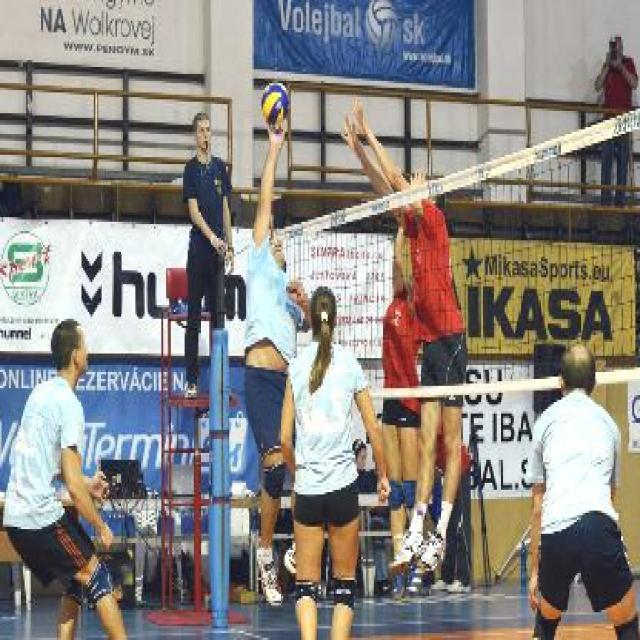volleyball: (260, 82, 292, 124)
